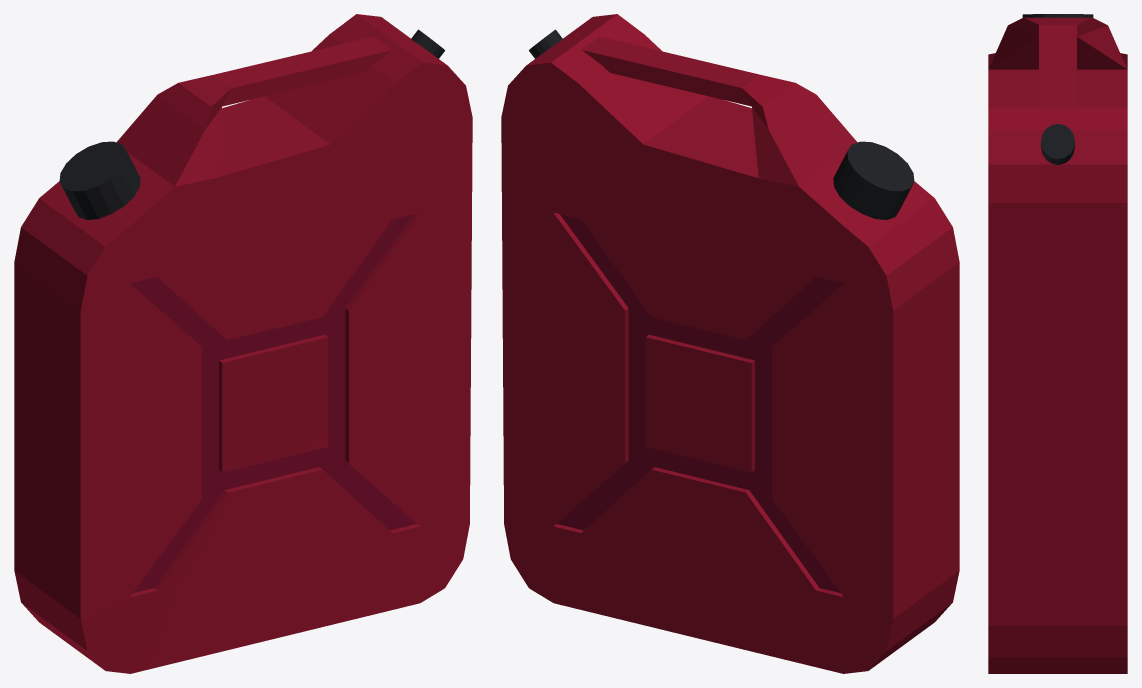
Rendered from Fuel.glb.
The picture shows the model from 3 angles, left to right: view 1: azimuth 30°, elevation 25°; view 2: azimuth 150°, elevation 25°; view 3: azimuth 270°, elevation 25°; orthographic projection. The views are drawn at different scales.
Parts seen in each view (by area): view 1: канистра; view 2: канистра; view 3: канистра.
Boxes of the visible parts, bbox=[...] form: канистра: bbox=[14, 14, 472, 673]; канистра: bbox=[501, 14, 959, 673]; канистра: bbox=[988, 14, 1127, 673].
Size of the model in its own units: 1.18 by 1.54 by 0.3436.
Materials: 1 (1 with a texture image).
